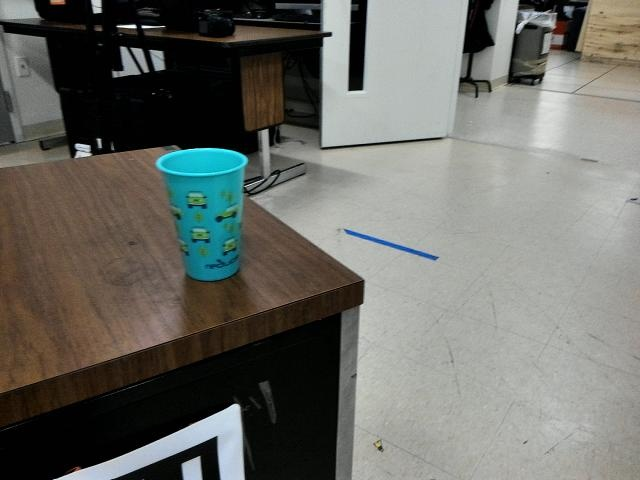coffee_cup: (155, 144, 254, 280)
